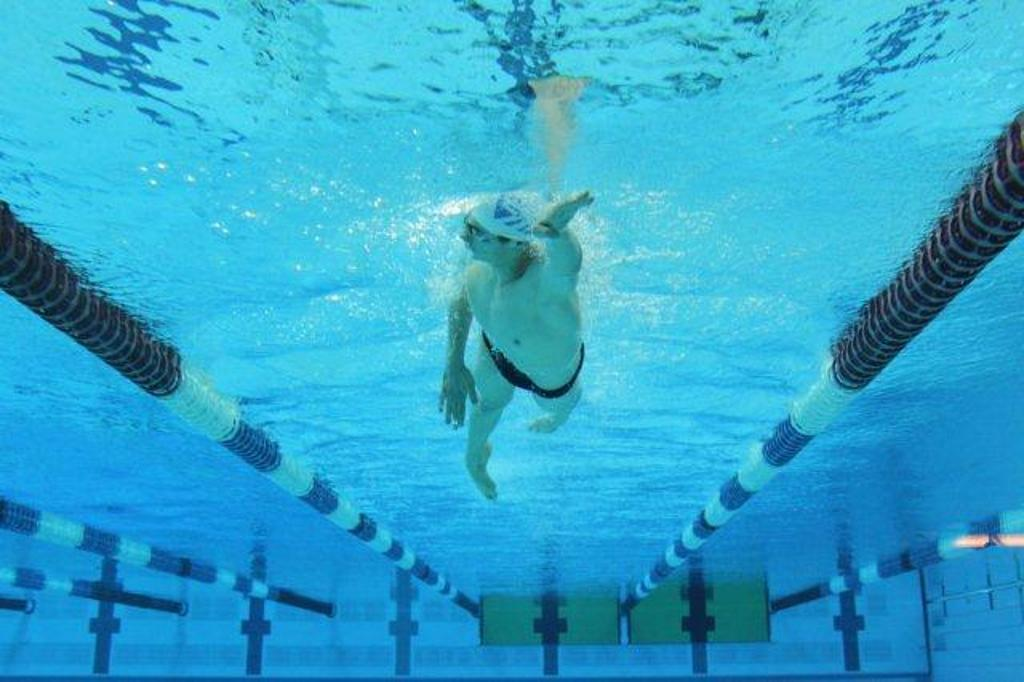face: (456, 204, 514, 262)
